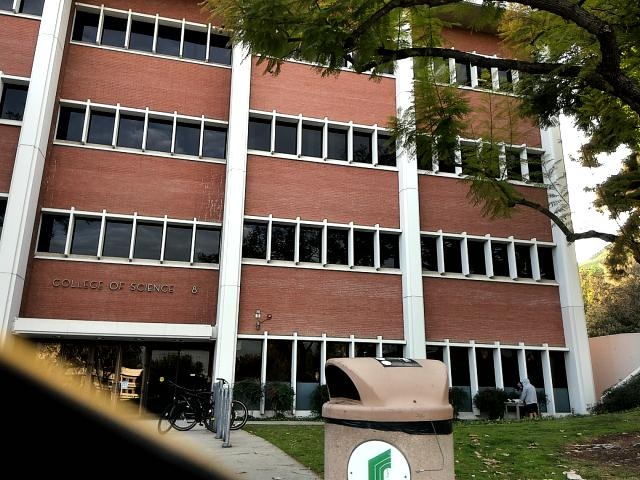trashcan: (309, 353, 461, 480)
